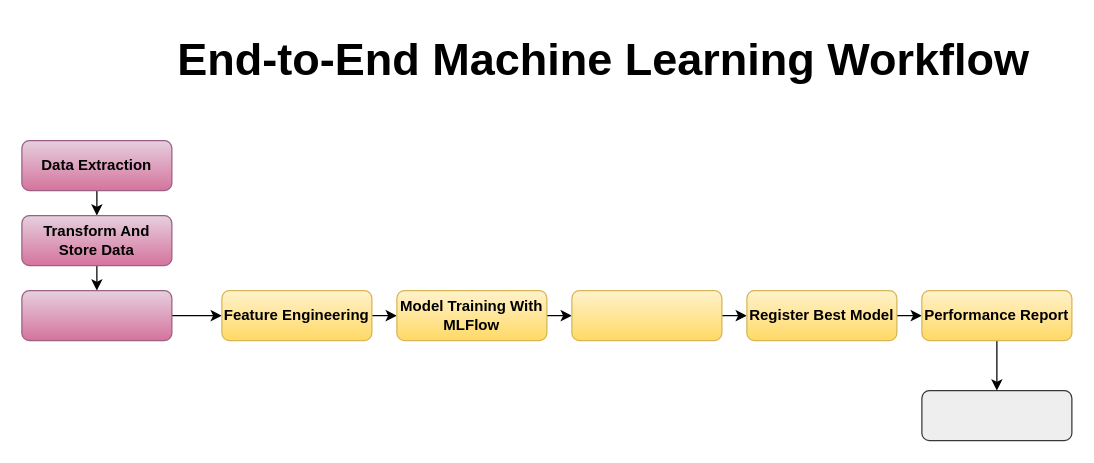
Image size: 1094x463. Some labels were removed from this diagram. The shapes that lost their labels are listed below. From the top down, each one's centre as x and y in pixels, then its label:
At (96,315): "Data Validation".
At (646,315): "Model Evaluation".
At (996,415): "Model Deployment".
